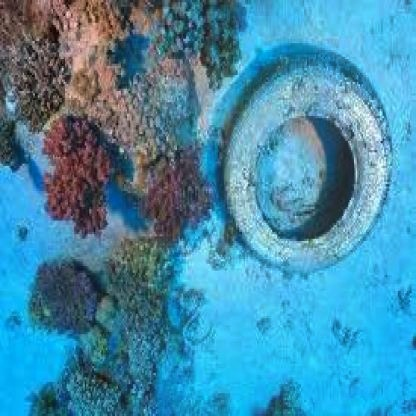tire: (204, 32, 401, 280)
